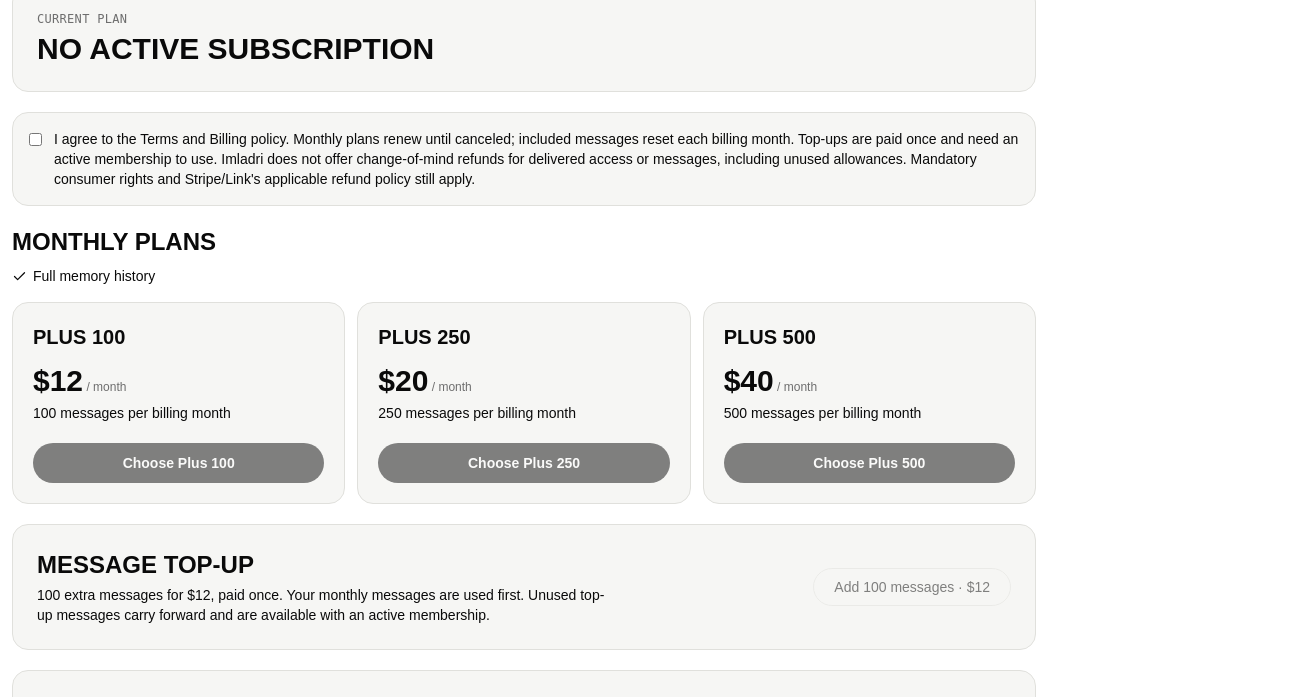
it: an authorization recorded before the deadline can finish confirmation afterward
The image size is (1292, 697).
Click the checkbox with test id "purchase-policy-accept" at (36,140), box [29,133,42,146]
(page scrolled)
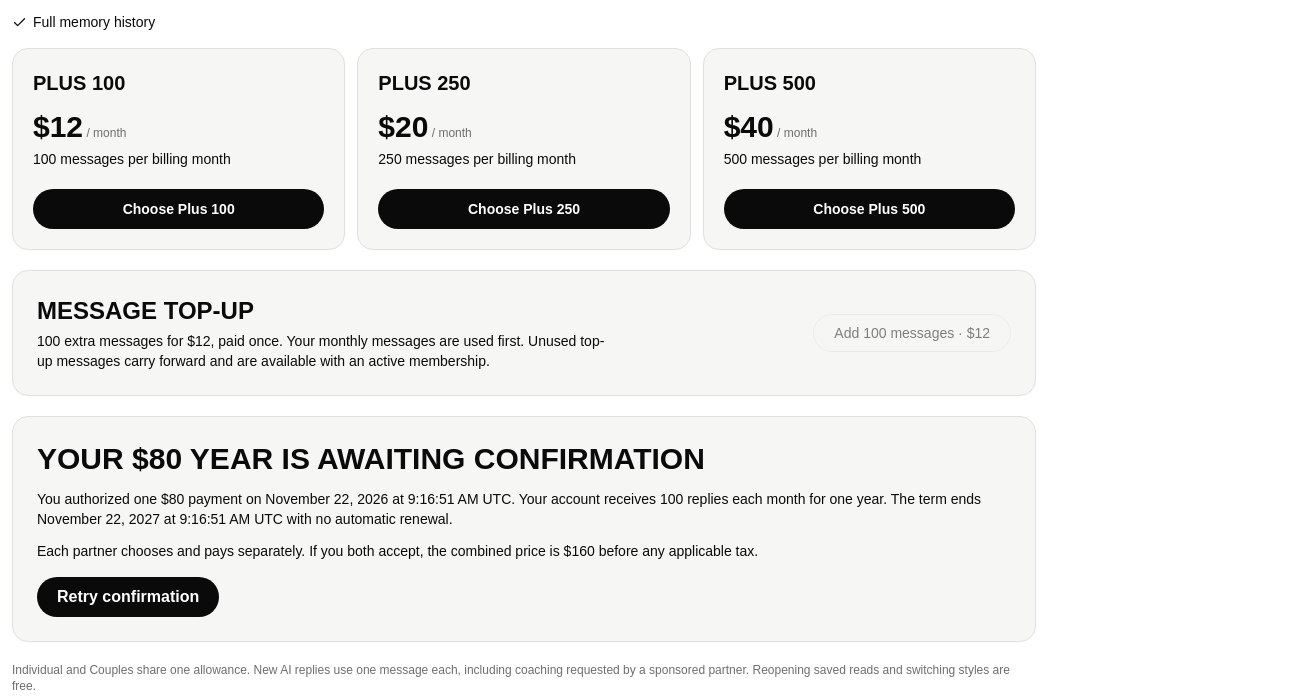
Click the button "Retry confirmation" at (128,597), box [37,577,219,617]
(page scrolled)
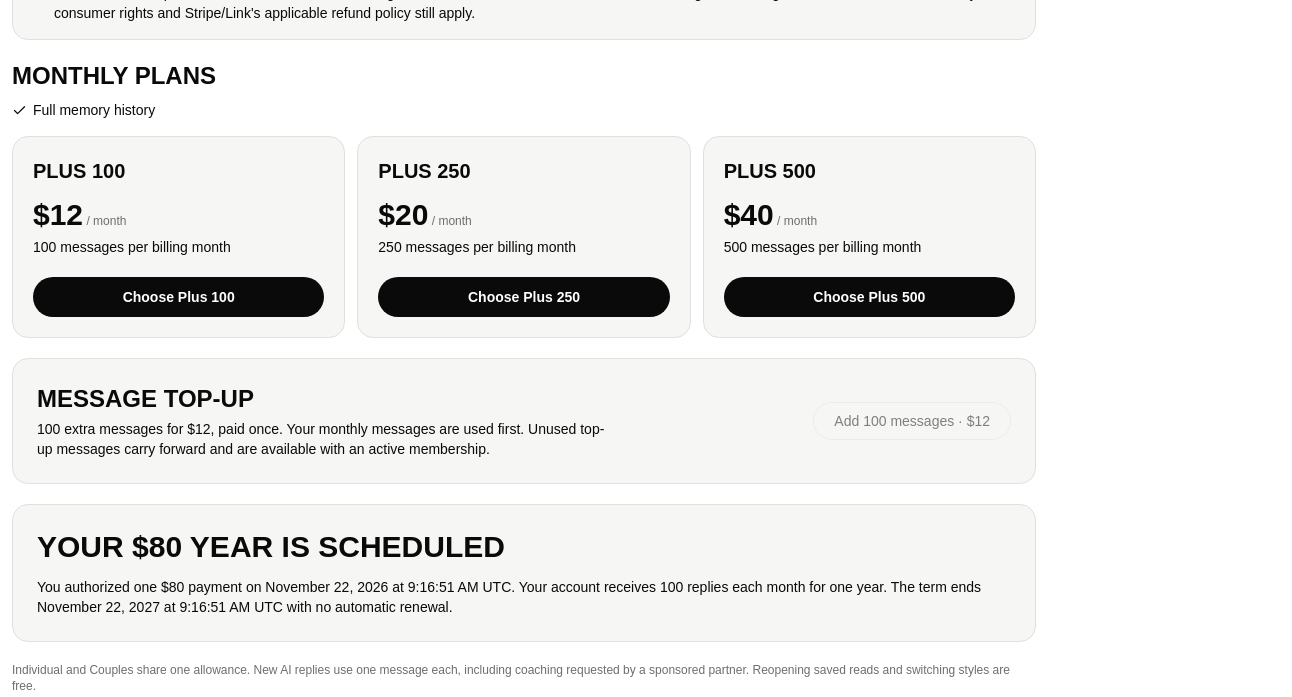
Expected: the text "Your $80 year is scheduled" is shown, [37,530,505,563]
